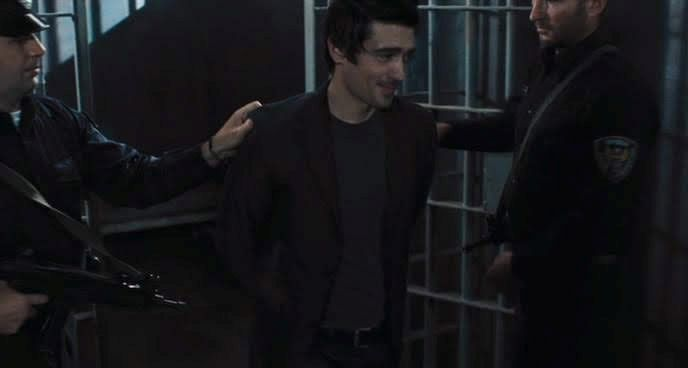gun: (4, 232, 201, 326), (451, 203, 530, 277)
